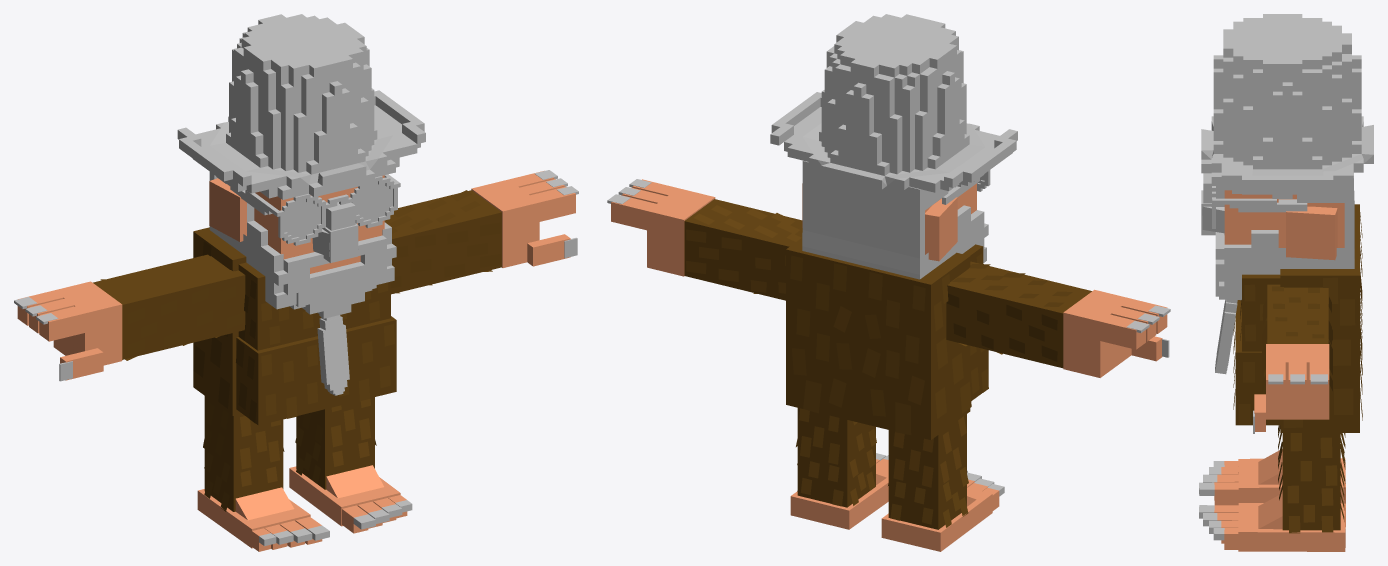
3 renders of one model, left to right at view 1: azimuth 30°, elevation 25°; view 2: azimuth 150°, elevation 25°; view 3: azimuth 270°, elevation 25°, orthographic.
Parts seen in each view (by area): view 1: Pack 9.008; view 2: Pack 9.008; view 3: Pack 9.008.
Part boxes in pixels (box(x1,y1,x2,y2)): Pack 9.008: box(14, 14, 578, 551); Pack 9.008: box(607, 14, 1170, 551); Pack 9.008: box(1199, 14, 1373, 551).
Size of the model in its own units: 170 by 144 by 47.79.
